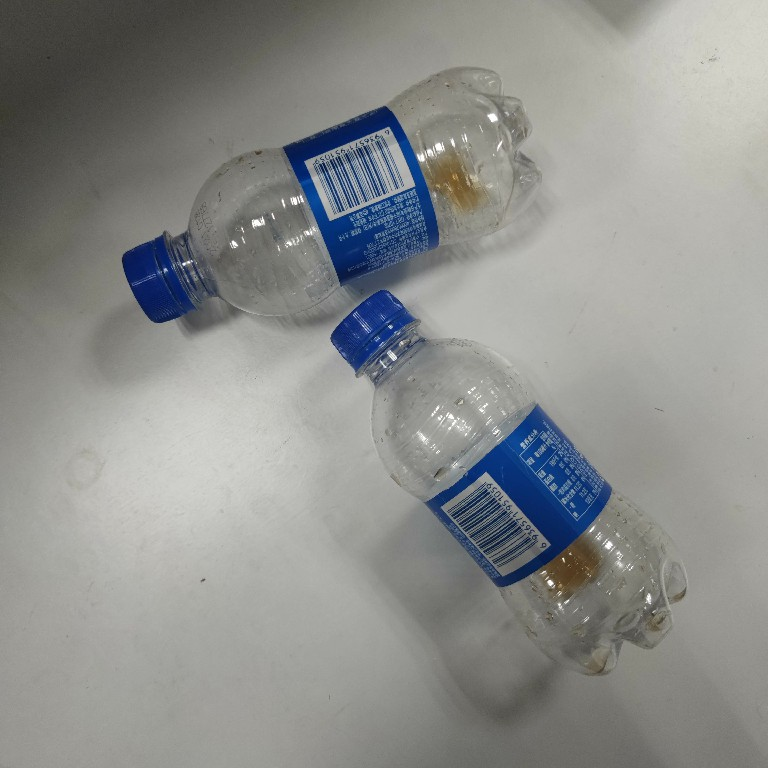bottle: (326, 285, 694, 683), (120, 62, 548, 326)
